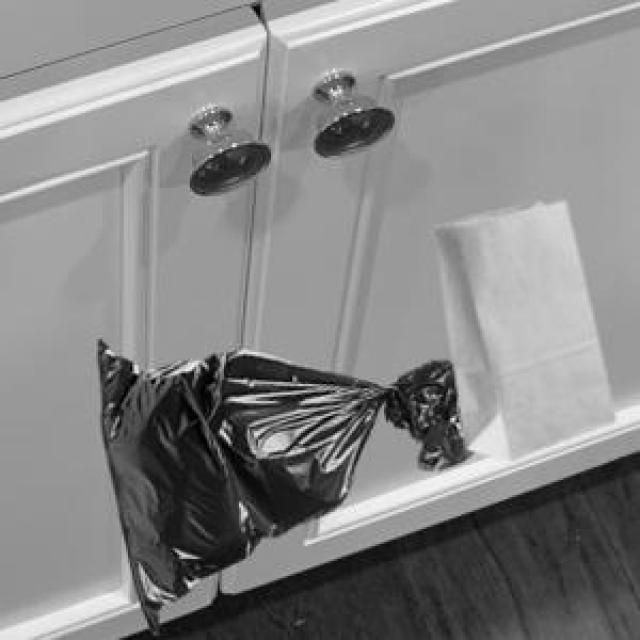miscellaneous trash: (95, 337, 469, 629)
paper: (431, 198, 610, 457)
